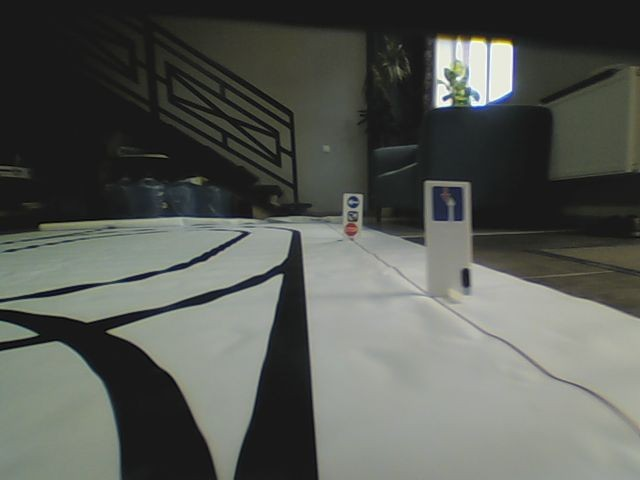Stop: (344, 222, 359, 237)
priority_movement: (431, 183, 467, 224)
